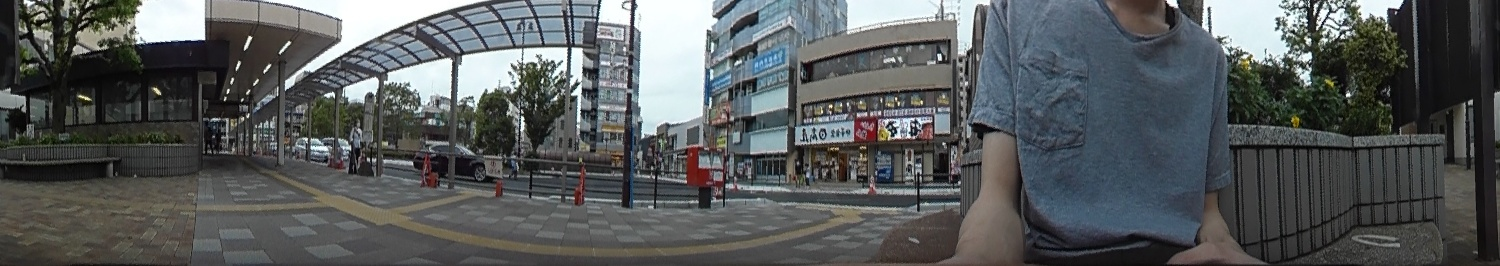difficult_person: (201, 118, 215, 154), (792, 158, 804, 186), (510, 150, 518, 178)
person: (346, 116, 363, 175)
